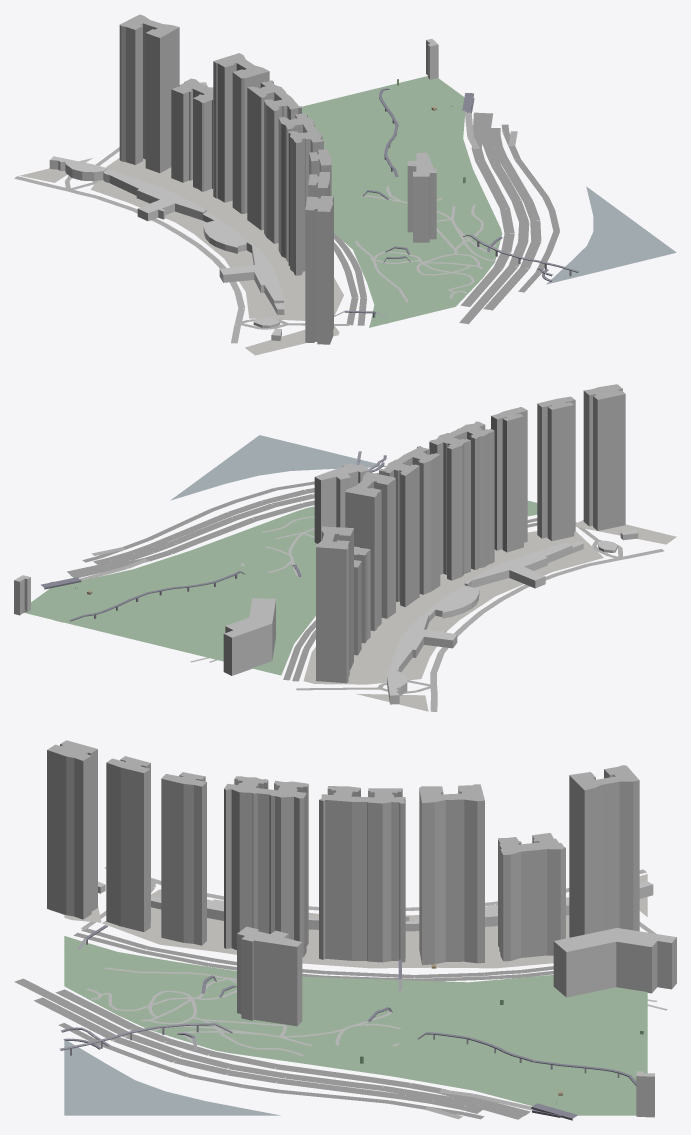
The picture shows the model from 3 angles, top to bottom: view 1: azimuth 30°, elevation 25°; view 2: azimuth 150°, elevation 25°; view 3: azimuth 270°, elevation 25°; orthographic projection. The views are drawn at different scales.
Bounding box in the file's own units: 518 × 156 × 568.
